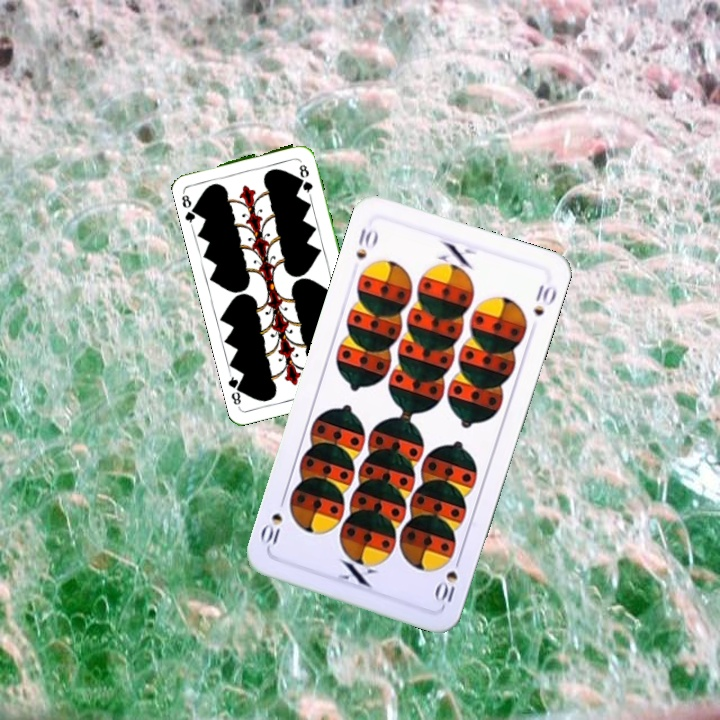G8: (178, 187, 202, 227)
S10: (432, 551, 464, 605), (352, 223, 381, 262)
